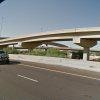Bridge: (2, 25, 98, 64)
